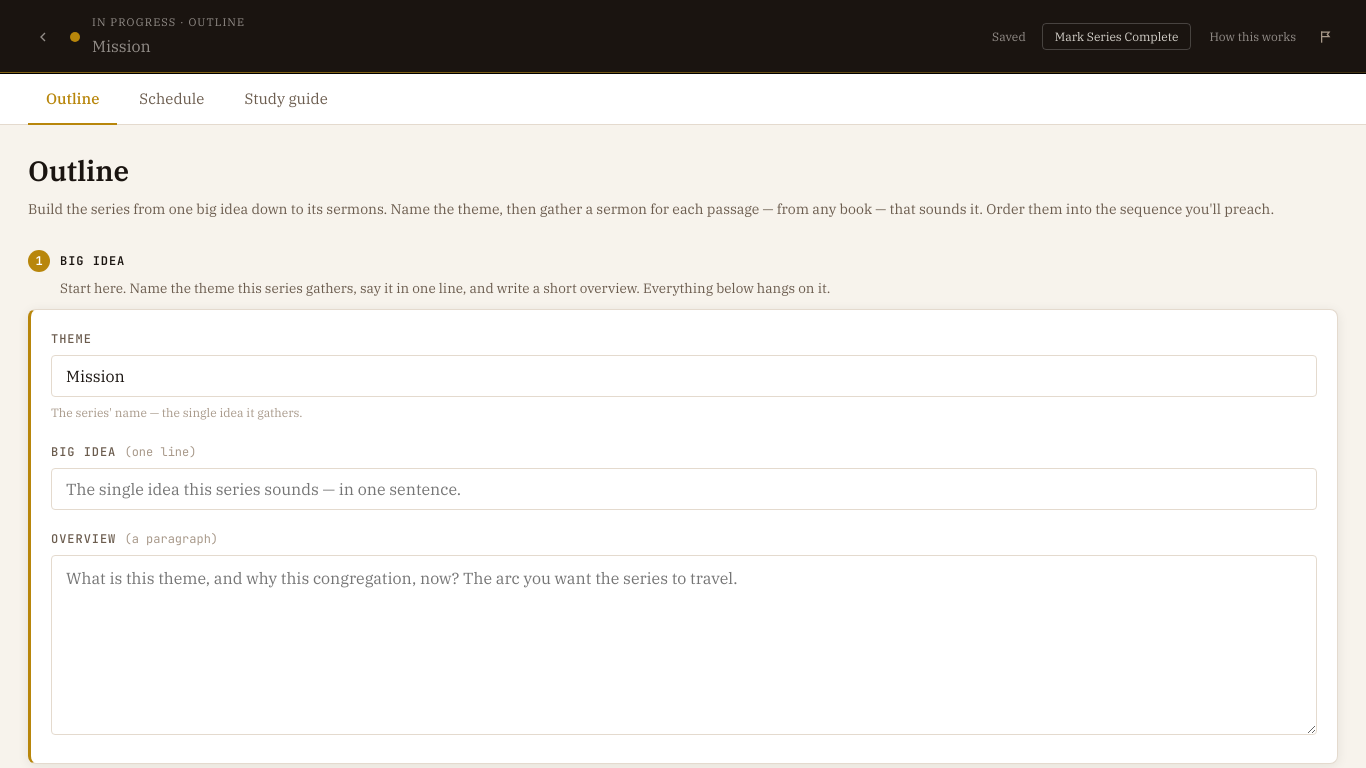
Test: SeriesPlanner — unresolved failed writes fail the global flush › study-guide export refuses stale database state while a parked failed write remains
Expected: the text "Saved" is shown, [992, 29, 1026, 44]
Replace the text in the field with placeholder "e.g. The Mission of God" with "Sent" at [684, 376], box [51, 356, 1317, 398]
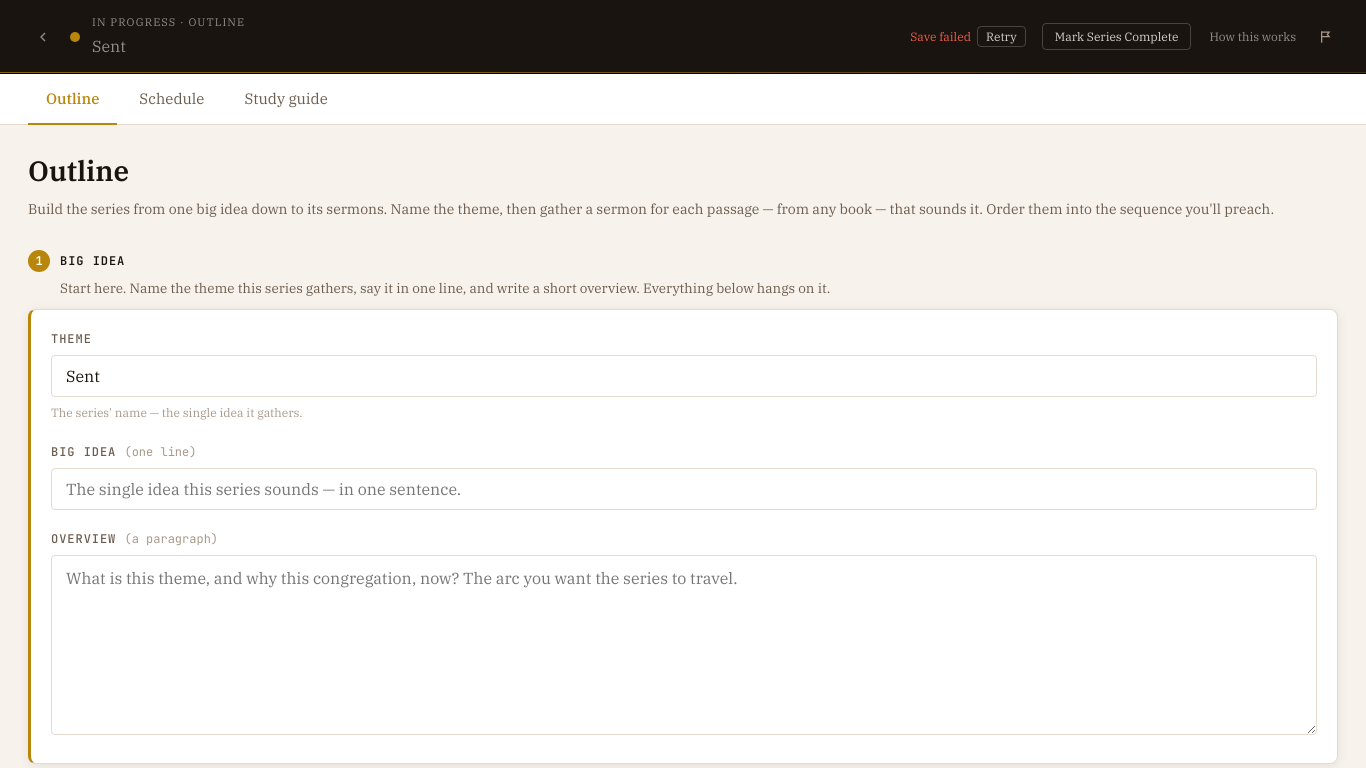
Result: the text "Save failed" is shown at [910, 27, 971, 46]
Click the button "Study guide" at [286, 99], box [244, 89, 328, 108]
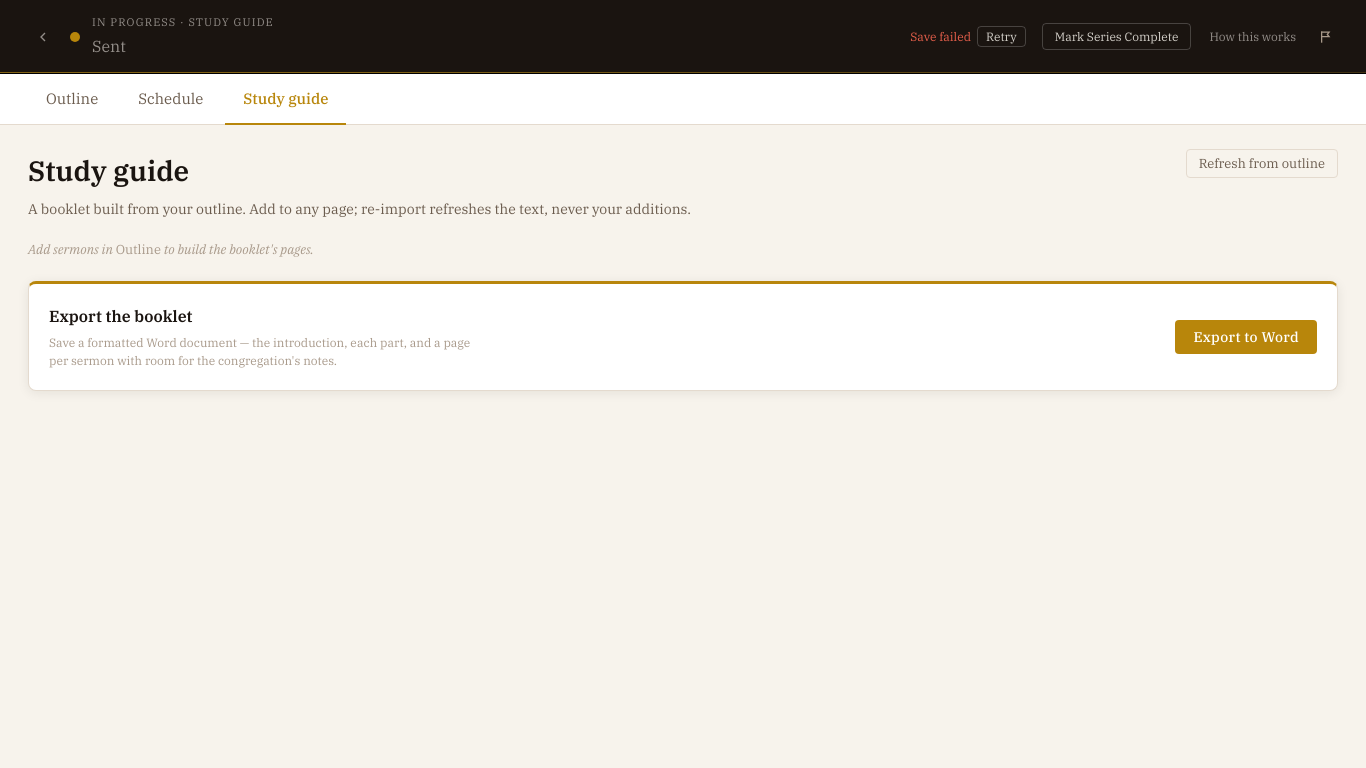
Click the button "Export to Word" at [1246, 337], box [1175, 320, 1317, 354]
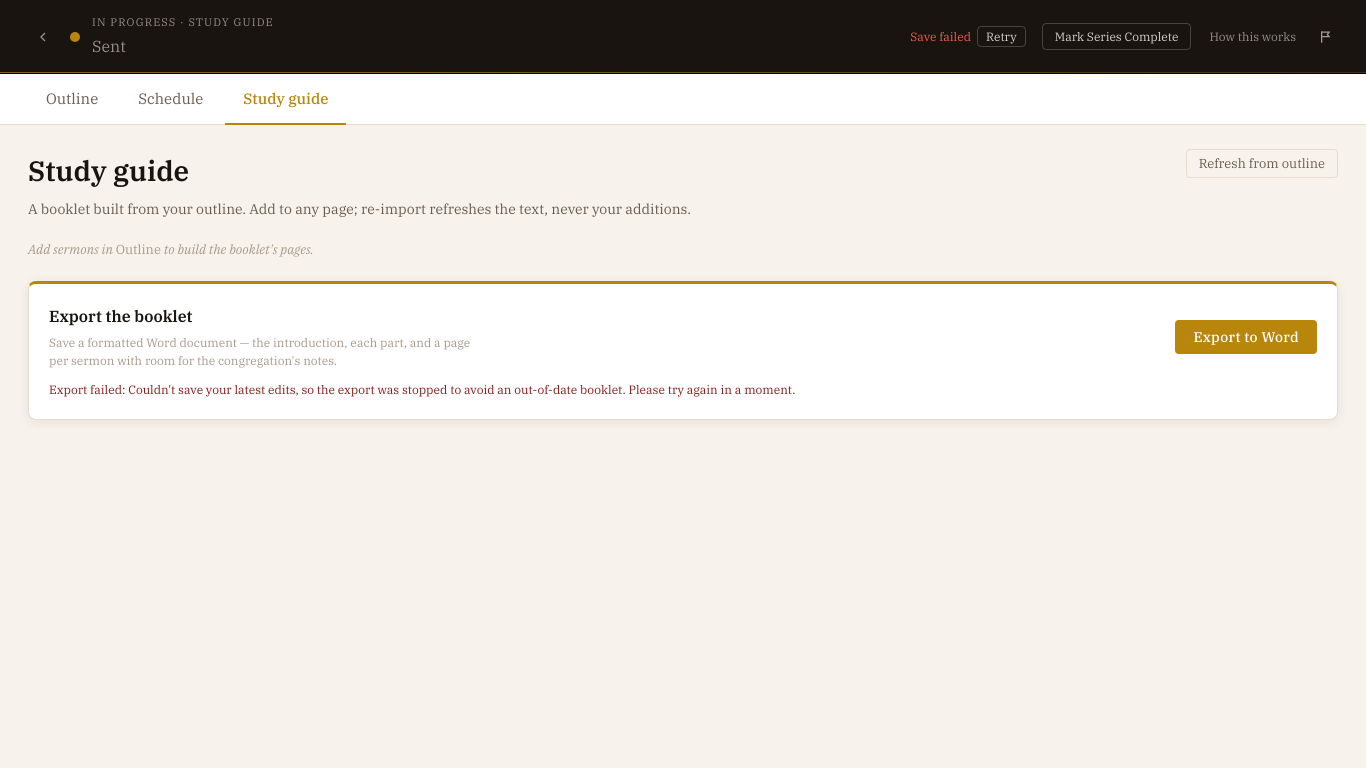
Result: the text "export was stopped" is shown at [128, 382, 796, 397]
